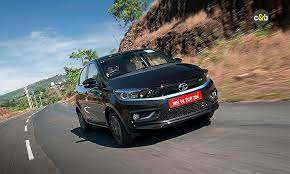Tiago: (71, 45, 220, 146)
